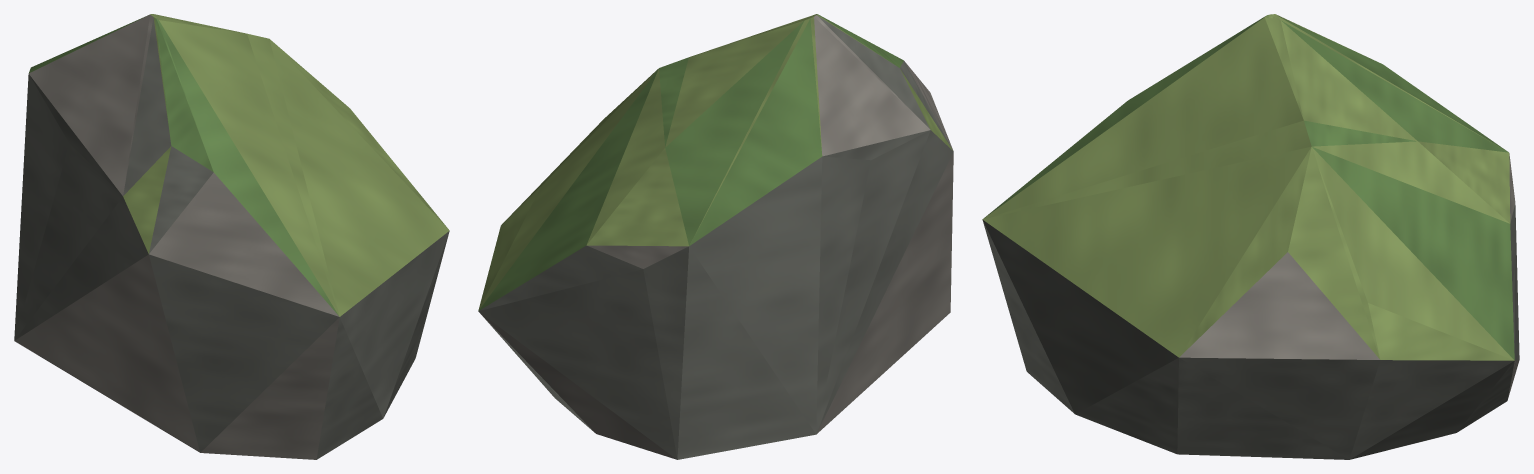
File: rock_mossy_medium_01.fbx
3 views of the same model, side by side, from view 1: azimuth 30°, elevation 25°; view 2: azimuth 150°, elevation 25°; view 3: azimuth 270°, elevation 25° (orthographic). The views are drawn at different scales.
Visible parts, largest first — view 1: rock_mossy_medium_01; view 2: rock_mossy_medium_01; view 3: rock_mossy_medium_01.
Part boxes in pixels (x1,y1,x2,y2): rock_mossy_medium_01: (14, 14, 449, 459); rock_mossy_medium_01: (478, 14, 953, 459); rock_mossy_medium_01: (982, 14, 1519, 459).
Size of the model in its own units: 1.09 by 1.11 by 1.59.
